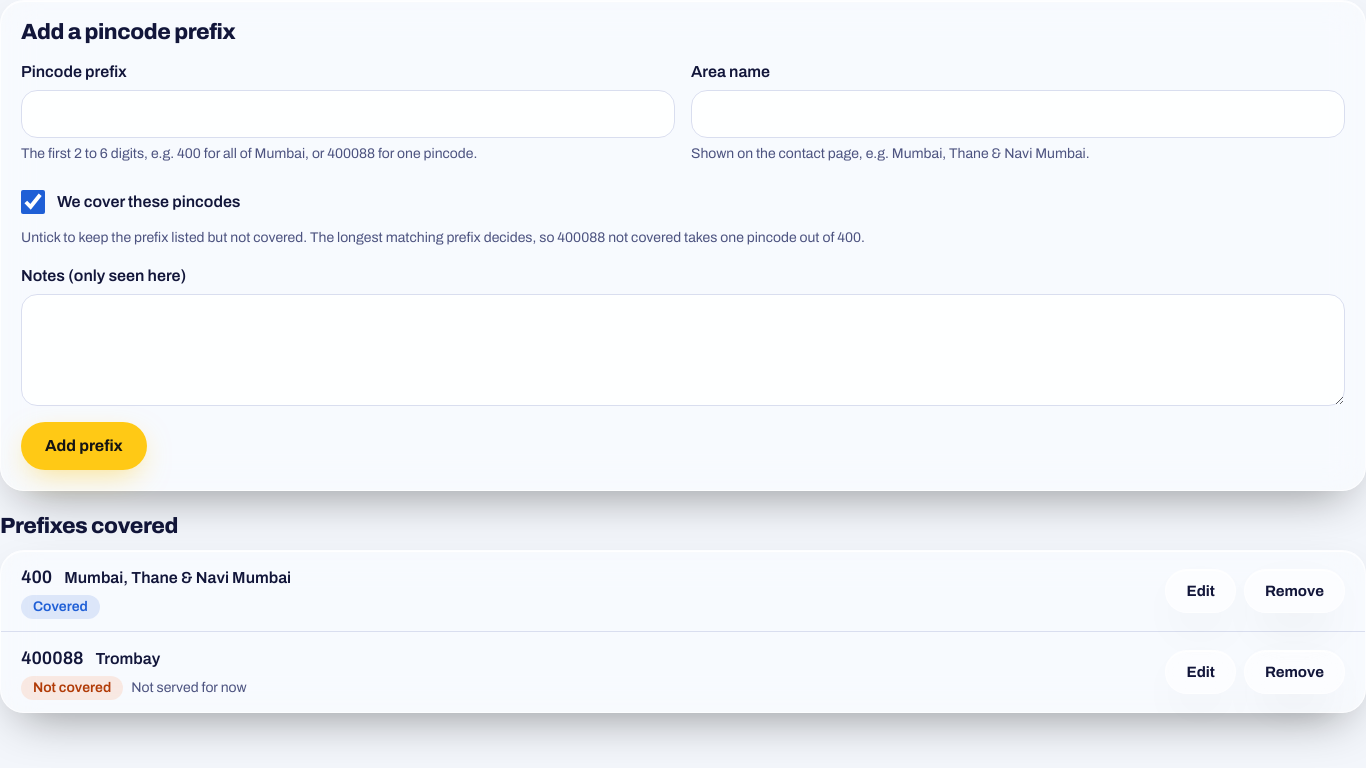
Test: AreasEditor › a prefix with a space shows "Use 2–6 digits of the pincode." and nothing is sent
In the field labelled "Pincode prefix": (348, 114) x1=21 y1=90 x2=675 y2=138, type "40 0"
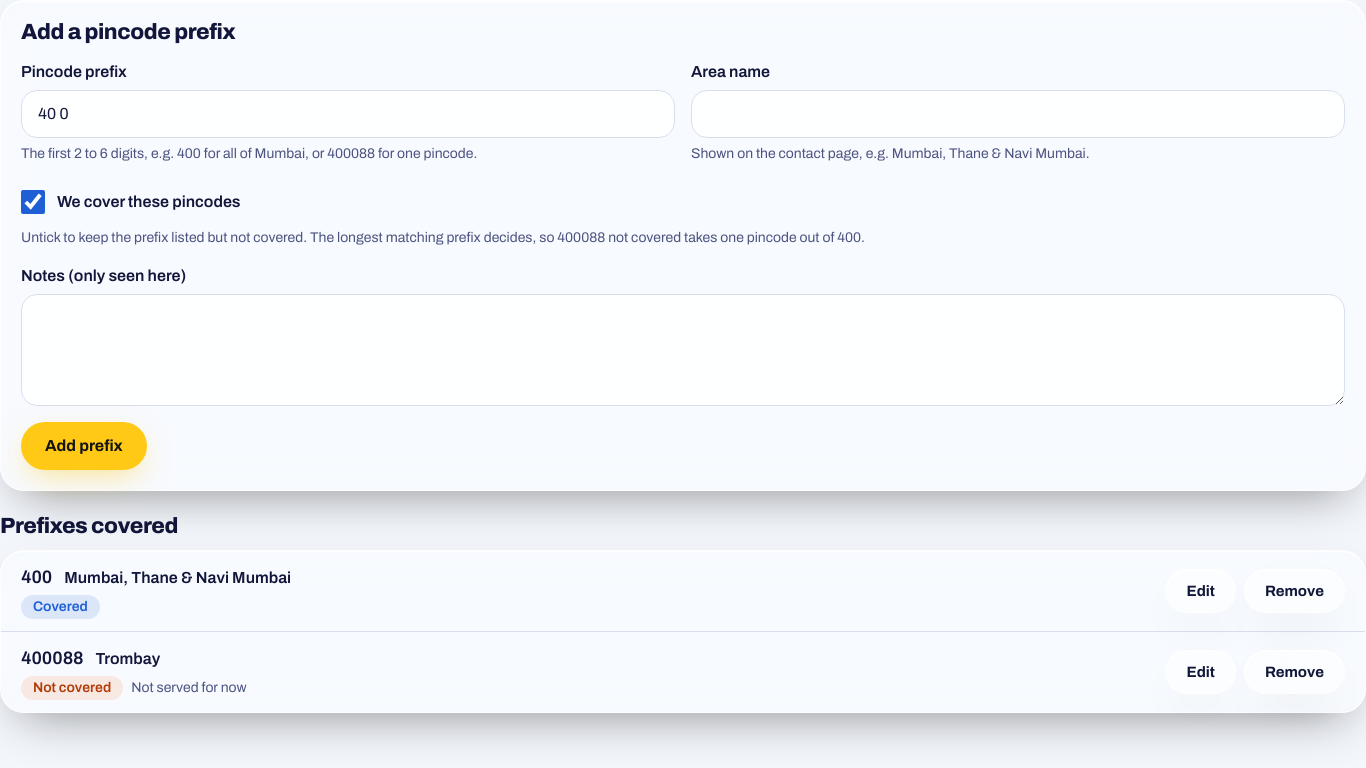
In the field labelled "Area name": (1018, 114) x1=691 y1=90 x2=1345 y2=138, type "Somewhere"
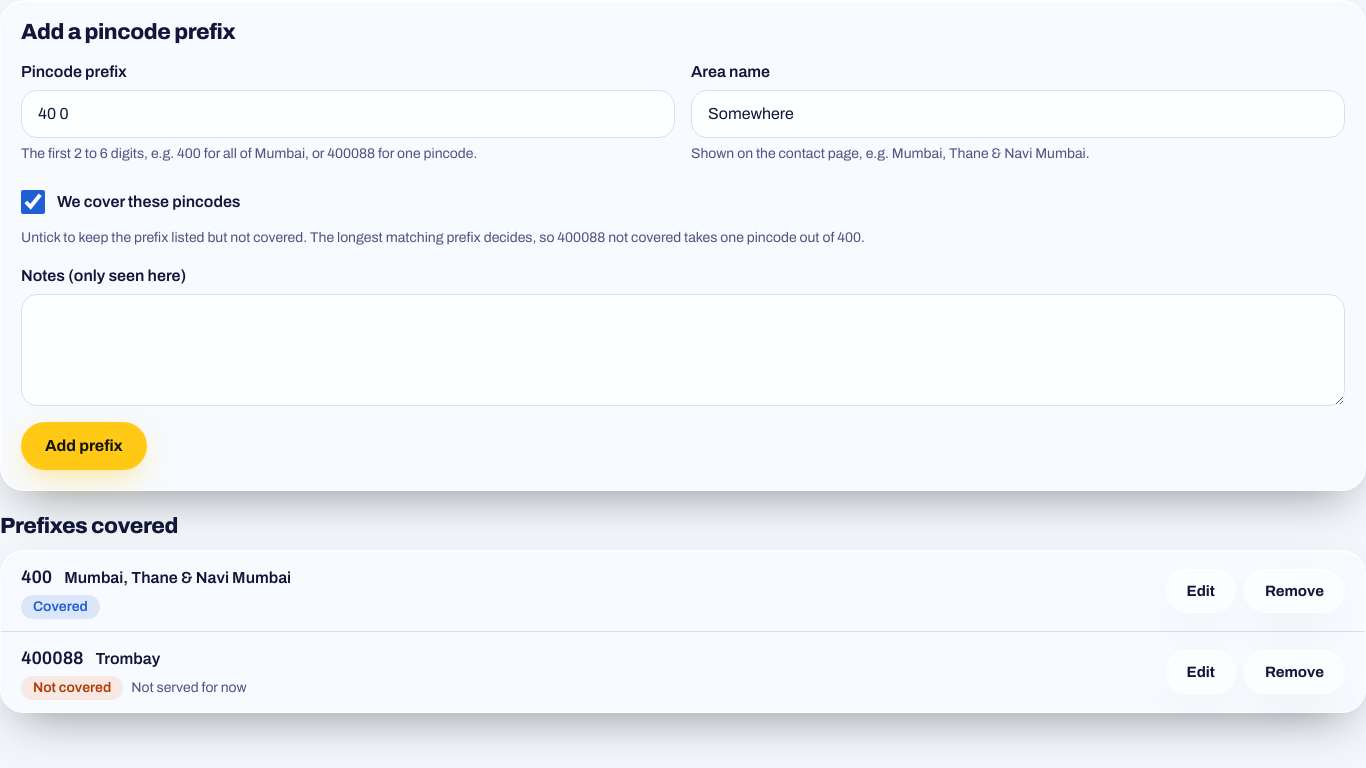
Click the button "Add prefix": (84, 446) x1=21 y1=422 x2=147 y2=470
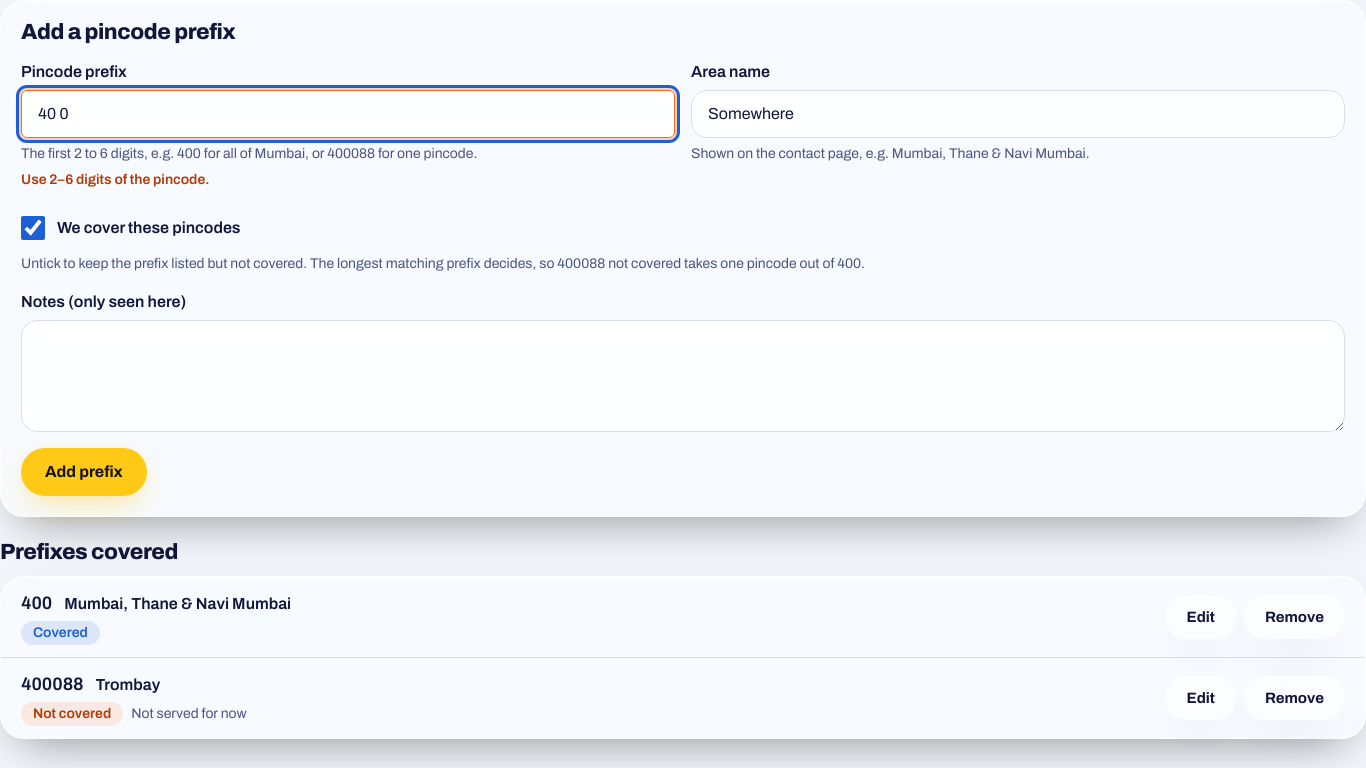
expect the text "Use 2–6 digits of the pincode." is shown: met, box x1=21 y1=172 x2=210 y2=187
